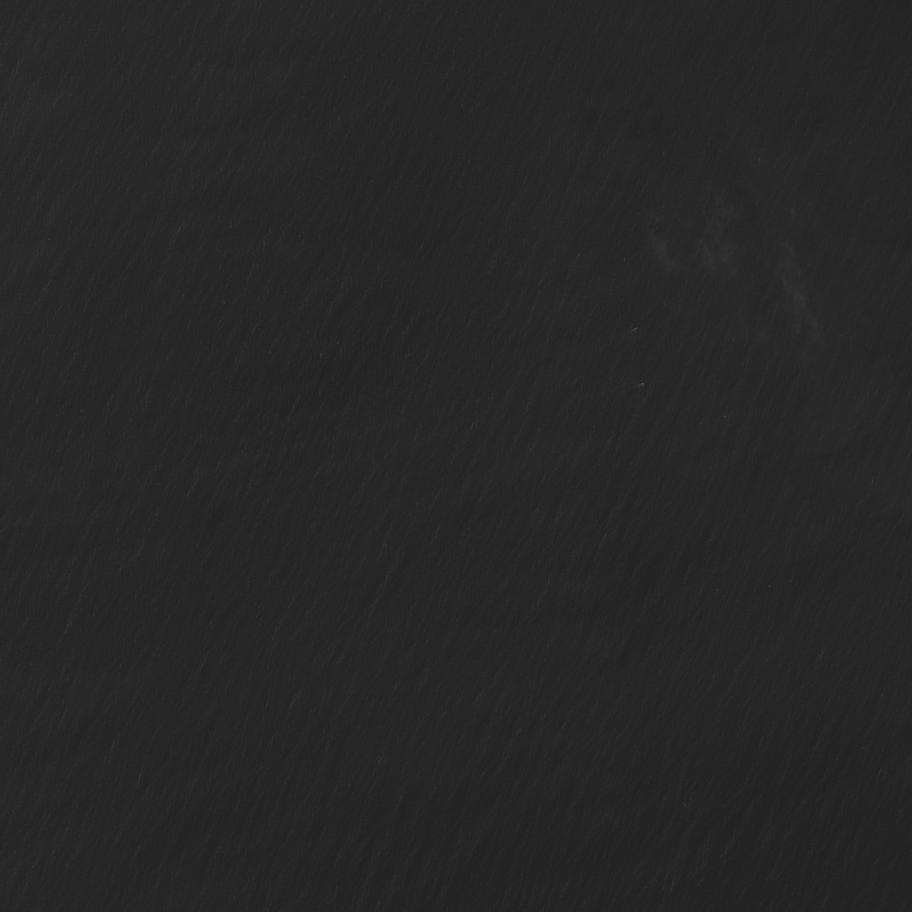ship: (631, 326, 639, 332), (637, 382, 646, 387)
